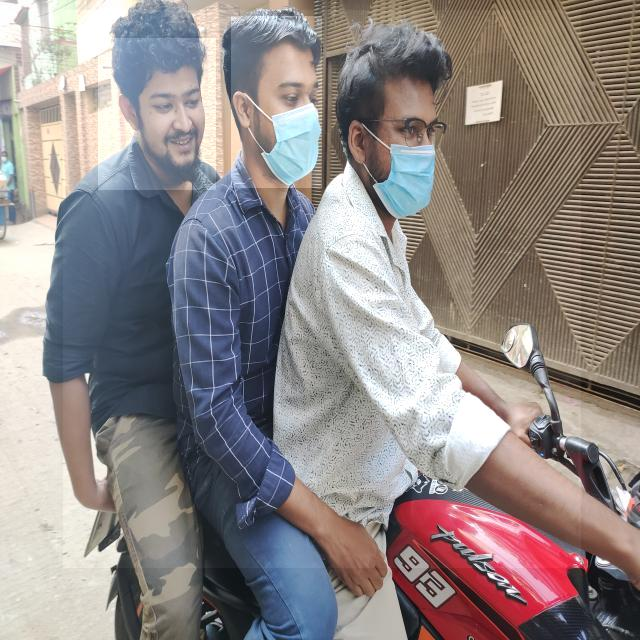No_Helmet: (342, 37, 464, 235), (98, 38, 216, 190), (231, 16, 322, 188)
Overloading: (63, 10, 581, 568)
